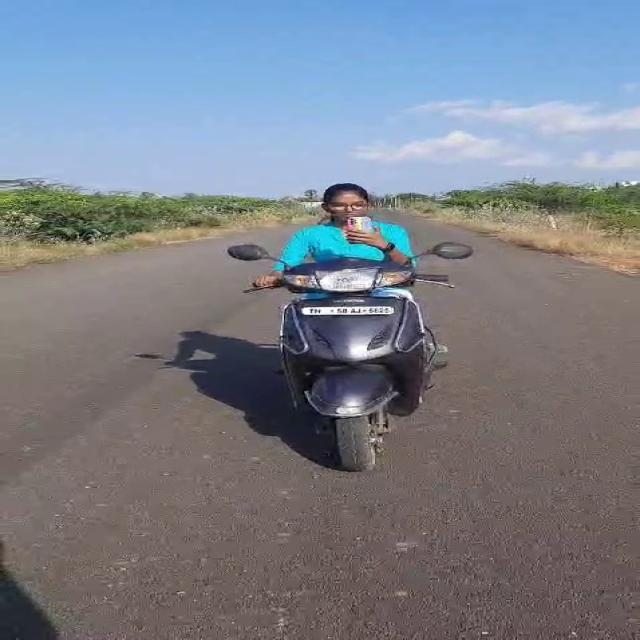USING_MOBILE: (310, 182, 404, 260)
